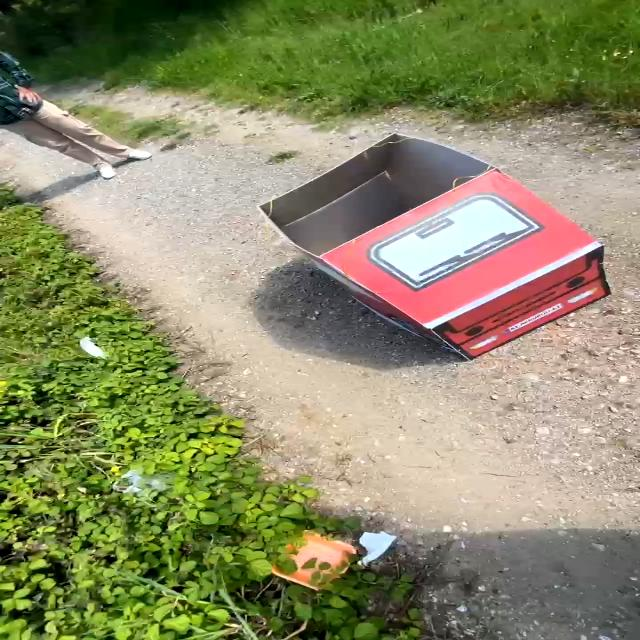red_car: (199, 116, 620, 366)
